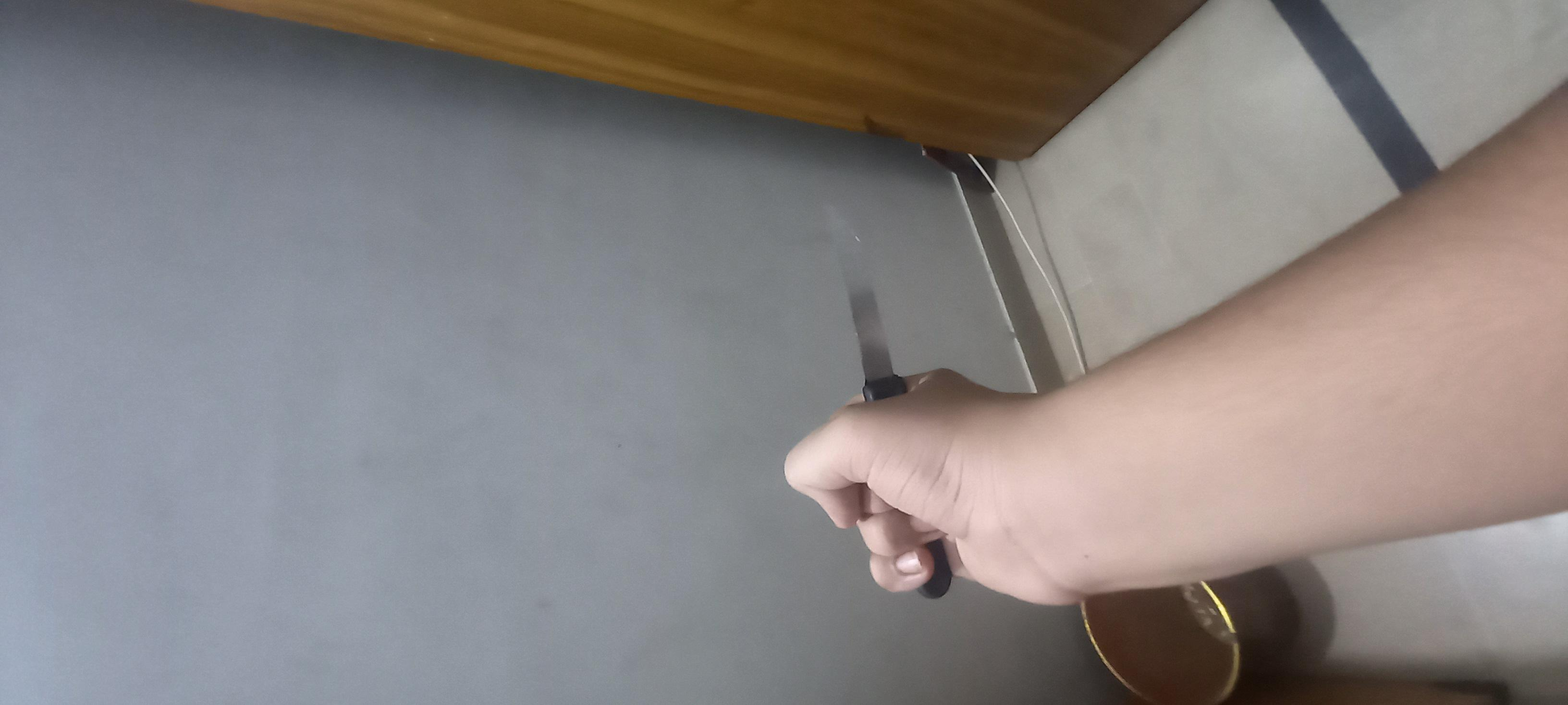knives: (189, 367, 1112, 428)
